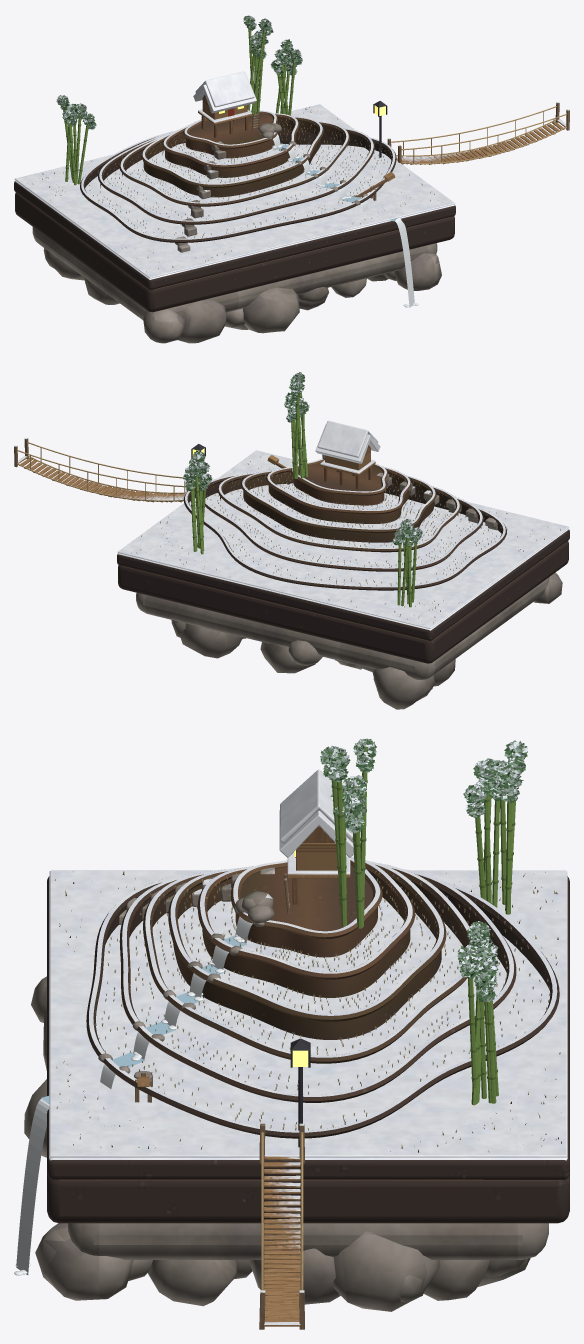
Rendered from unlock-terraces-dong.glb.
The picture shows the model from 3 angles, top to bottom: view 1: azimuth 30°, elevation 25°; view 2: azimuth 150°, elevation 25°; view 3: azimuth 270°, elevation 25°; orthographic projection. The views are drawn at different scales.
Parts seen in each view (by area): view 1: unlock-terraces-static, fall-edge; view 2: unlock-terraces-static; view 3: unlock-terraces-static, fall-edge, water-surface-terraces.
Part boxes in pixels (x1,y1,x2,y2): unlock-terraces-static: [14, 15, 569, 343]; fall-edge: [395, 217, 414, 307]; unlock-terraces-static: [14, 372, 569, 709]; unlock-terraces-static: [14, 738, 569, 1329]; fall-edge: [16, 1099, 49, 1274]; water-surface-terraces: [41, 935, 246, 1103].
Bounding box in the file's own units: 10.07 × 5.44 × 5.32.
42 materials, 23 textured.
